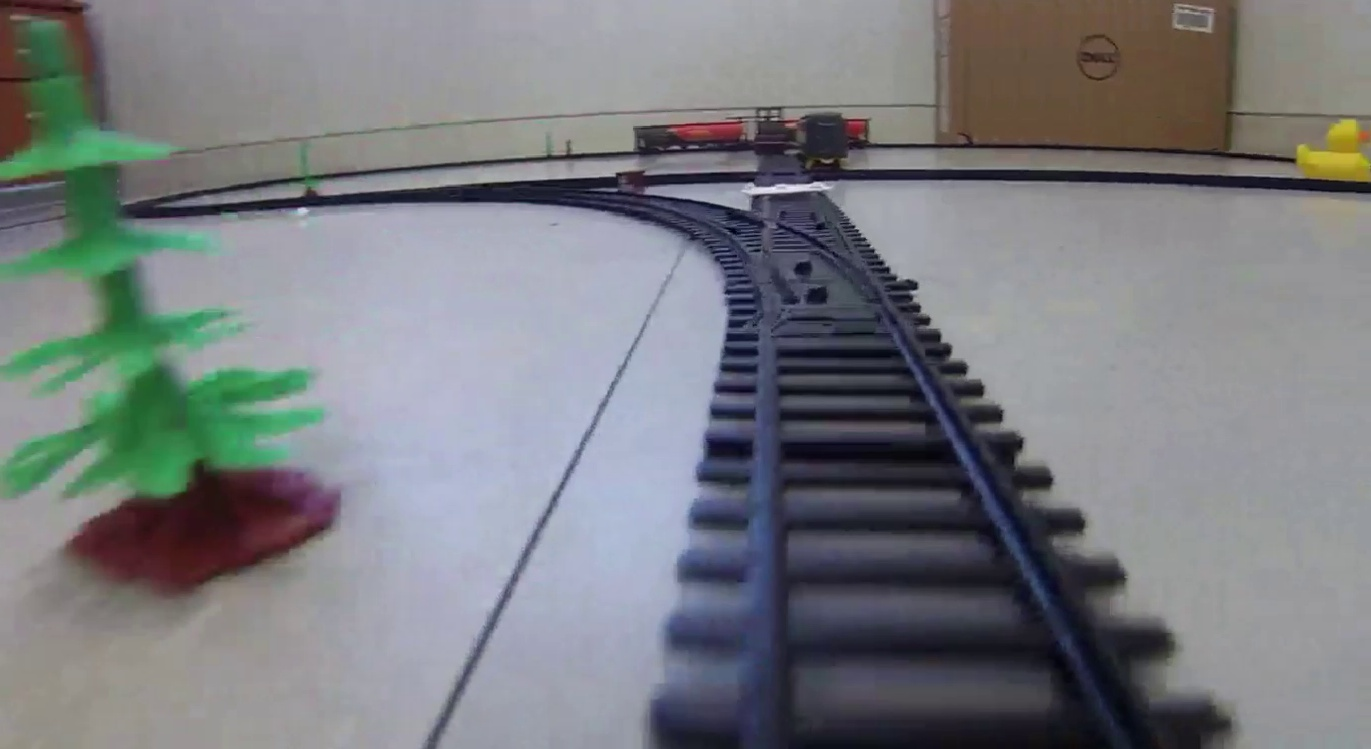tree: (6, 17, 337, 598)
